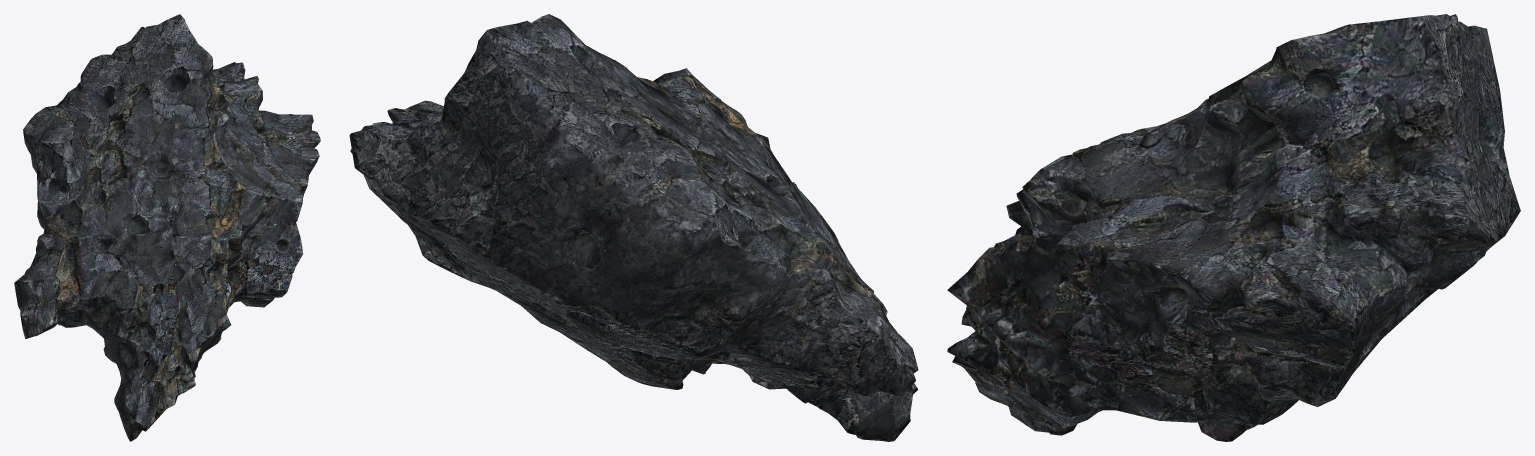
File: obj_rock3.glb
3 renders of one model, left to right at view 1: azimuth 30°, elevation 25°; view 2: azimuth 150°, elevation 25°; view 3: azimuth 270°, elevation 25°, orthographic. The views are drawn at different scales.
Parts seen in each view (by area): view 1: tripo_node_e5018475-d6b4-4ec9-bab7-b13993c9ce69; view 2: tripo_node_e5018475-d6b4-4ec9-bab7-b13993c9ce69; view 3: tripo_node_e5018475-d6b4-4ec9-bab7-b13993c9ce69.
Part boxes in pixels (left/top/right/bottom): tripo_node_e5018475-d6b4-4ec9-bab7-b13993c9ce69: left=14, top=14, right=320, bottom=441; tripo_node_e5018475-d6b4-4ec9-bab7-b13993c9ce69: left=349, top=14, right=918, bottom=441; tripo_node_e5018475-d6b4-4ec9-bab7-b13993c9ce69: left=947, top=14, right=1520, bottom=441.
Bounding box in the file's own units: 0.9779 × 0.8923 × 0.8398.
1 material, 1 textured.
